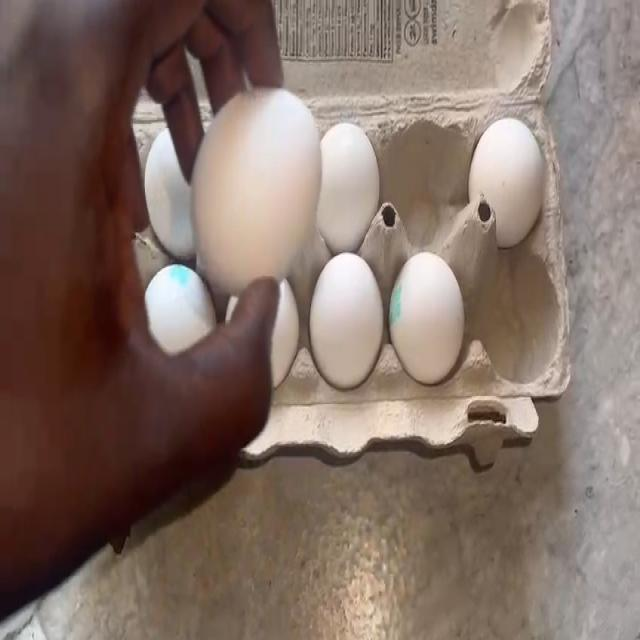Egg: (203, 110, 305, 263), (399, 260, 464, 370), (320, 262, 380, 374), (476, 118, 536, 218), (334, 128, 376, 242), (156, 276, 196, 336), (157, 162, 185, 222)
